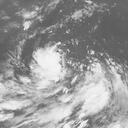cyclone: (31, 45, 65, 89)
